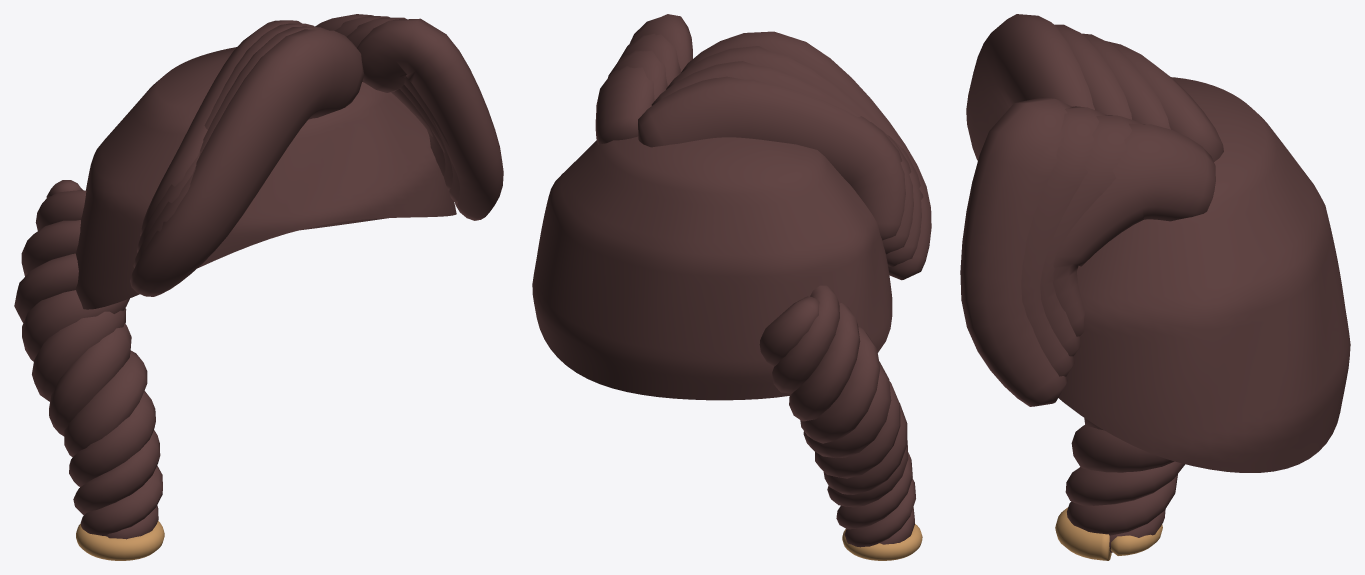
Rendered from studio_single_braid_medium.glb.
The picture shows the model from 3 angles, left to right: view 1: azimuth 30°, elevation 25°; view 2: azimuth 150°, elevation 25°; view 3: azimuth 270°, elevation 25°; orthographic projection. The views are drawn at different scales.
Parts seen in each view (by area): view 1: single_braid; view 2: single_braid; view 3: single_braid.
Boxes of the visible parts, x1,y1,x2,y2 form: single_braid: [14, 14, 503, 560]; single_braid: [532, 14, 931, 560]; single_braid: [960, 14, 1350, 560].
Bounding box in the file's own units: 0.5368 × 0.6498 × 0.3764.
